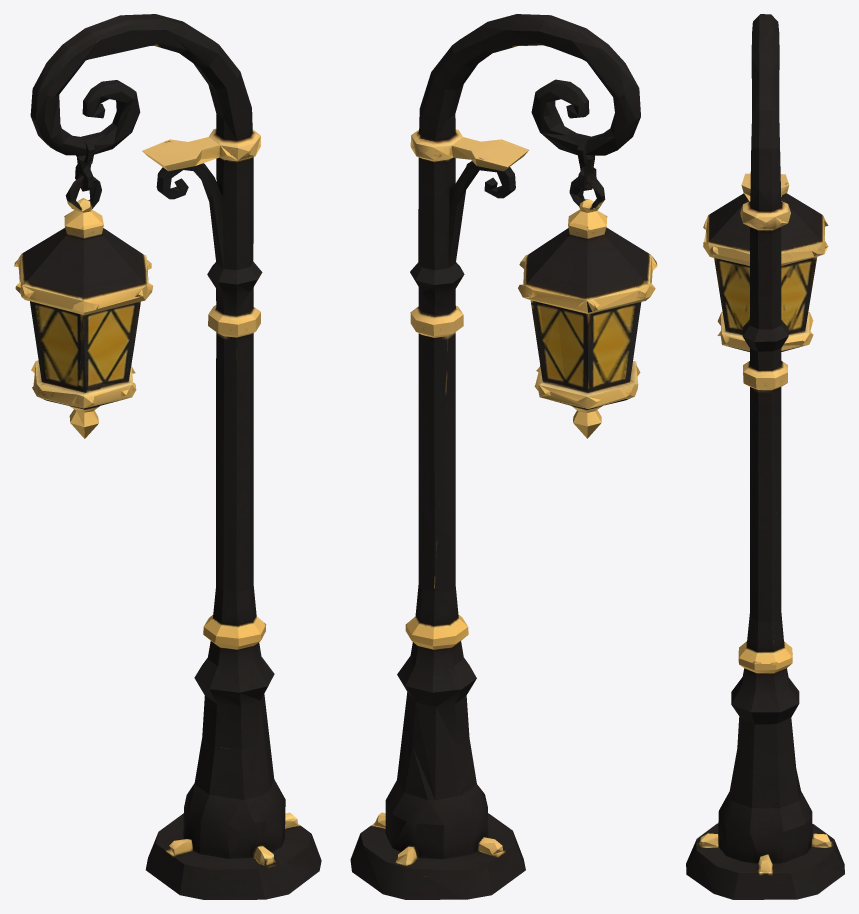
File: TWN_PRP_streetlamp_A.glb
The picture shows the model from 3 angles, left to right: view 1: azimuth 30°, elevation 25°; view 2: azimuth 150°, elevation 25°; view 3: azimuth 270°, elevation 25°; orthographic projection. The views are drawn at different scales.
Parts seen in each view (by area): view 1: Mesh_0; view 2: Mesh_0; view 3: Mesh_0.
Boxes of the visible parts, bbox=[...] form: Mesh_0: bbox=[14, 14, 321, 899]; Mesh_0: bbox=[350, 14, 657, 899]; Mesh_0: bbox=[686, 14, 844, 899].
Size of the model in its own units: 0.6458 by 1.9 by 0.3449.
1 material, 1 textured.
